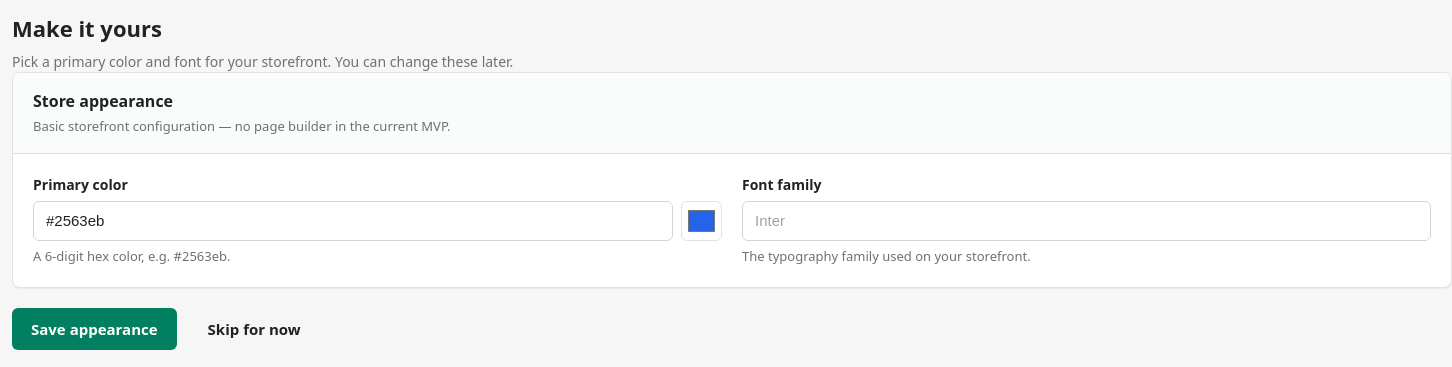
AppearanceStep › rejects an invalid hex color locally
Expected: the button "Save appearance" is enabled, [12,308,177,350]
Replace the text in the field labelled "Primary color" with "red" at [353, 221], box [33,200,672,241]
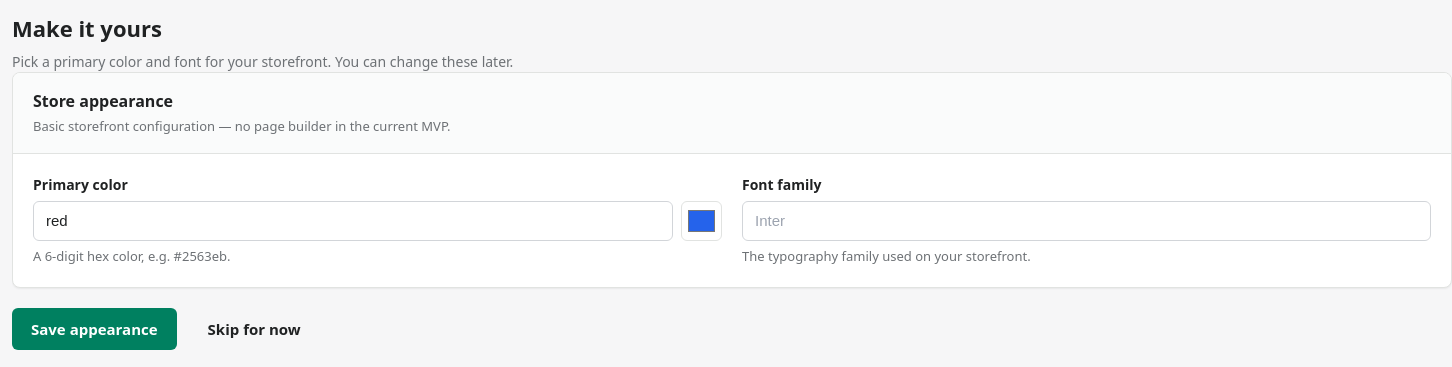
Click the button "Save appearance" at [94, 328], box [12,308,177,350]
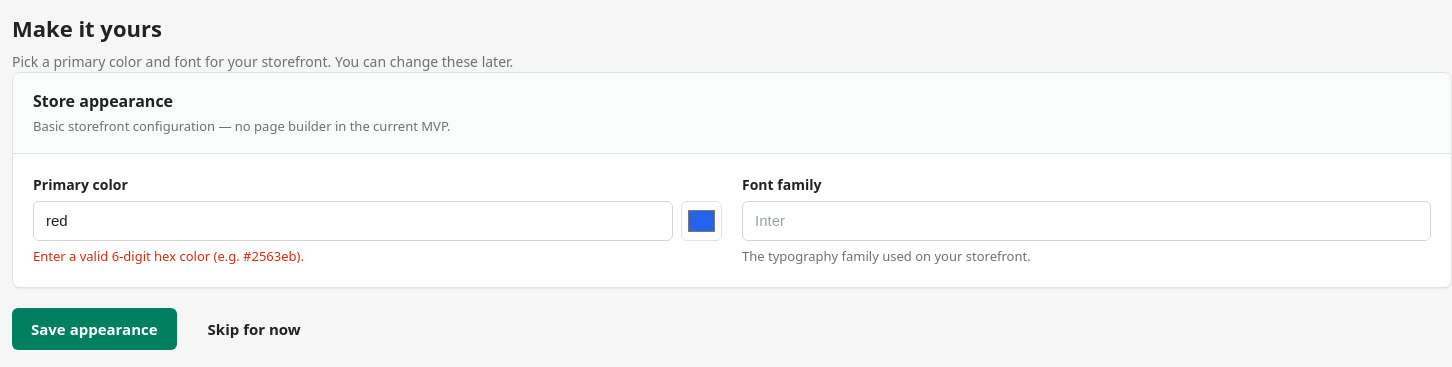
Result: the text "Enter a valid 6-digit hex color (e.g. #2563eb)." is shown at [33,247,304,265]
